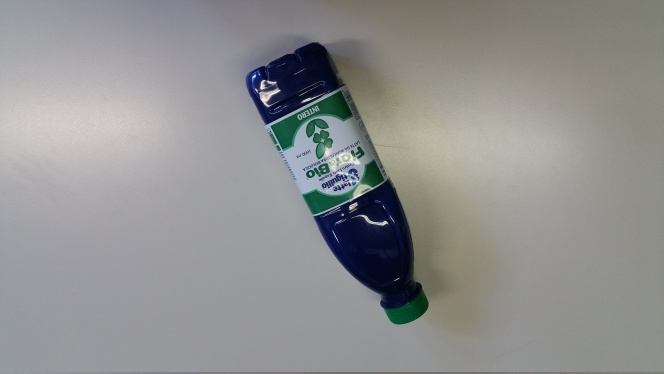bottle: (234, 35, 432, 331)
